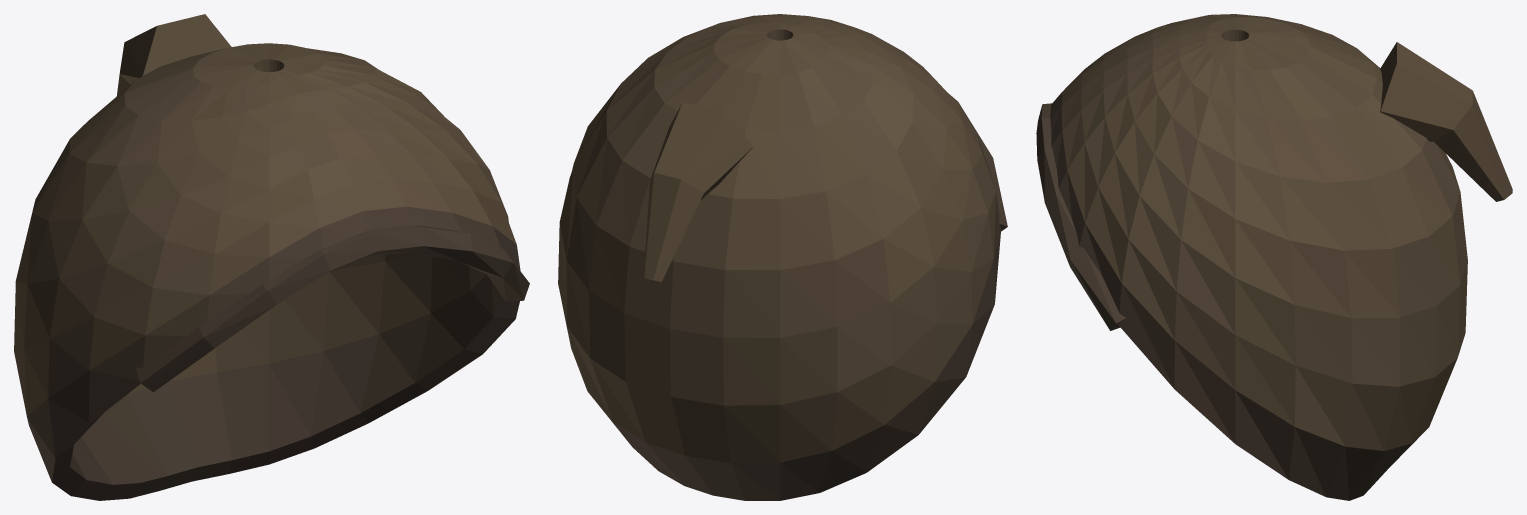
File: wear_hood.glb
The picture shows the model from 3 angles, left to right: view 1: azimuth 30°, elevation 25°; view 2: azimuth 150°, elevation 25°; view 3: azimuth 270°, elevation 25°; orthographic projection. The views are drawn at different scales.
Parts seen in each view (by area): view 1: wear_hood; view 2: wear_hood; view 3: wear_hood.
Boxes of the visible parts, <box> form: wear_hood: <box>14,14,529,500</box>; wear_hood: <box>558,14,1007,500</box>; wear_hood: <box>1036,14,1512,500</box>.
Bounding box in the file's own units: 0.6434 × 0.6568 × 0.6535.
